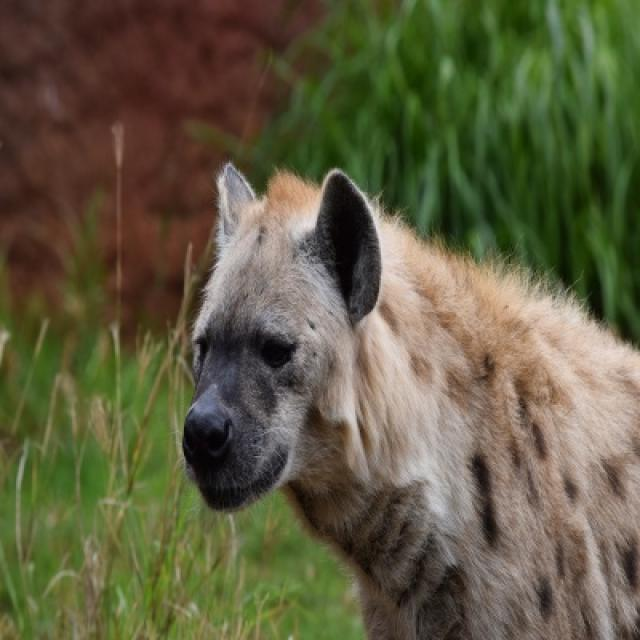hyena: (181, 163, 638, 638)
